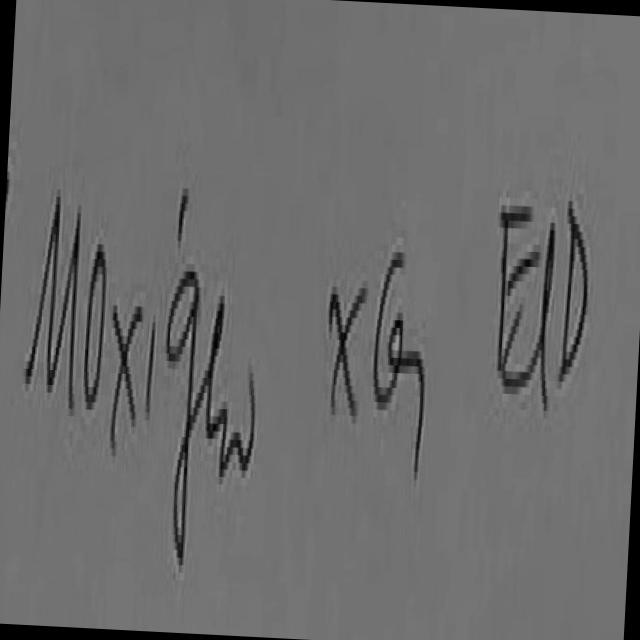D: (565, 201, 590, 378)
E: (500, 209, 541, 384)
G: (375, 260, 426, 476)
M: (24, 189, 81, 405)
X: (330, 287, 367, 415)
e: (205, 295, 228, 454)
g: (166, 264, 200, 562)
i: (145, 315, 154, 417)
n: (219, 378, 249, 473)
o: (84, 245, 104, 406)
x: (110, 307, 143, 445)
